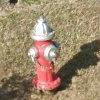a fire hydrant: (28, 15, 62, 93)
